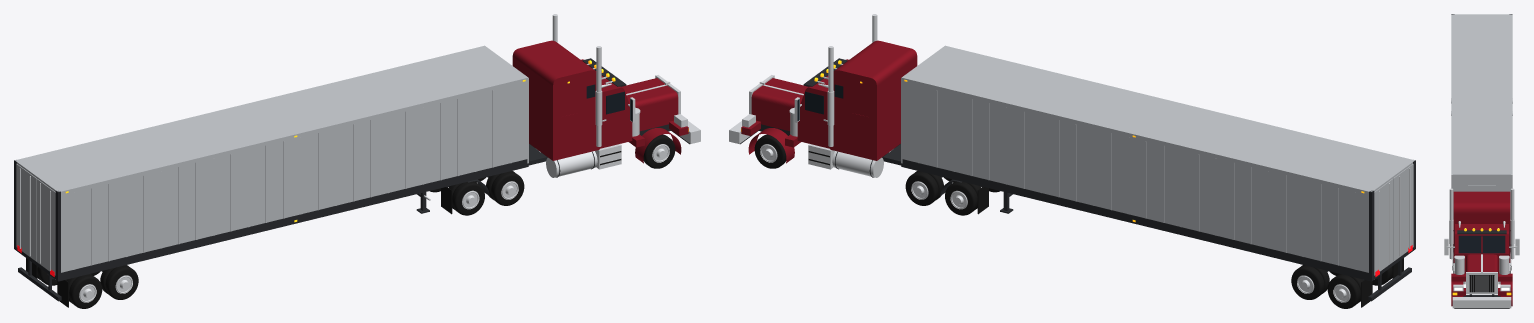
Rendered from american-truck.glb.
3 renders of one model, left to right at view 1: azimuth 30°, elevation 25°; view 2: azimuth 150°, elevation 25°; view 3: azimuth 270°, elevation 25°, orthographic. The views are drawn at different scales.
Visible parts, largest first — view 1: trailer_body, top_rail, sleeper, bottom_rail, hood, rear_door_R, rear_door_L, cab, fuel_tank_L, drive_axle_1_wheel_L_out_tire, trailer_axle_1_wheel_L_out_tire, trailer_axle_2_wheel_L_out_tire (+6 smaller); view 2: trailer_body, top_rail, sleeper, bottom_rail, hood, rear_door_L, rear_door_R, cab, fuel_tank_R, drive_axle_1_wheel_R_out_tire, trailer_axle_1_wheel_R_out_tire, trailer_axle_2_wheel_R_out_tire (+6 smaller); view 3: top_rail, sleeper, trailer_body, windshield, cab, bumper, hood, grille_mesh, grille_surround, sun_visor, exhaust_stack_R, exhaust_stack_L (+15 smaller).
Boxes of the visible parts, box(x1,y1,x2,y2) form: trailer_body: box(17, 82, 527, 272); top_rail: box(15, 45, 528, 195); sleeper: box(512, 40, 599, 160); bottom_rail: box(16, 159, 528, 281); hood: box(621, 78, 678, 131); rear_door_R: box(16, 164, 36, 260); rear_door_L: box(36, 178, 55, 275); cab: box(581, 59, 632, 148); fuel_tank_L: box(546, 151, 597, 177); drive_axle_1_wheel_L_out_tire: box(491, 171, 524, 205); trailer_axle_1_wheel_L_out_tire: box(105, 265, 138, 299); trailer_axle_2_wheel_L_out_tire: box(69, 274, 102, 308); trailer_body: box(902, 82, 1412, 272); top_rail: box(901, 45, 1414, 195); sleeper: box(830, 40, 917, 160); bottom_rail: box(901, 159, 1413, 281); hood: box(751, 78, 808, 131); rear_door_L: box(1393, 164, 1413, 260); rear_door_R: box(1374, 178, 1393, 275); cab: box(797, 59, 848, 148); fuel_tank_R: box(832, 151, 883, 177); drive_axle_1_wheel_R_out_tire: box(905, 171, 938, 205); trailer_axle_1_wheel_R_out_tire: box(1291, 265, 1324, 299); trailer_axle_2_wheel_R_out_tire: box(1327, 274, 1360, 308); top_rail: box(1451, 14, 1512, 177); sleeper: box(1453, 191, 1510, 262); trailer_body: box(1453, 174, 1510, 219); windshield: box(1458, 235, 1505, 253); cab: box(1455, 224, 1508, 273); bumper: box(1452, 297, 1511, 308); hood: box(1466, 254, 1497, 271); grille_mesh: box(1469, 275, 1494, 292); grille_surround: box(1466, 272, 1497, 294); sun_visor: box(1457, 230, 1506, 234); exhaust_stack_R: box(1510, 188, 1514, 259); exhaust_stack_L: box(1449, 188, 1453, 259).
Size of the model in its own units: 22.16 by 4.55 by 3.2.
